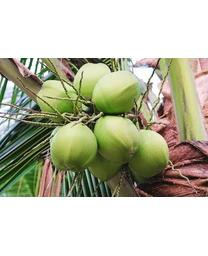coconut: (48, 120, 98, 174), (89, 69, 141, 111), (95, 117, 141, 163), (37, 74, 82, 119), (130, 128, 169, 175), (71, 60, 113, 96)
